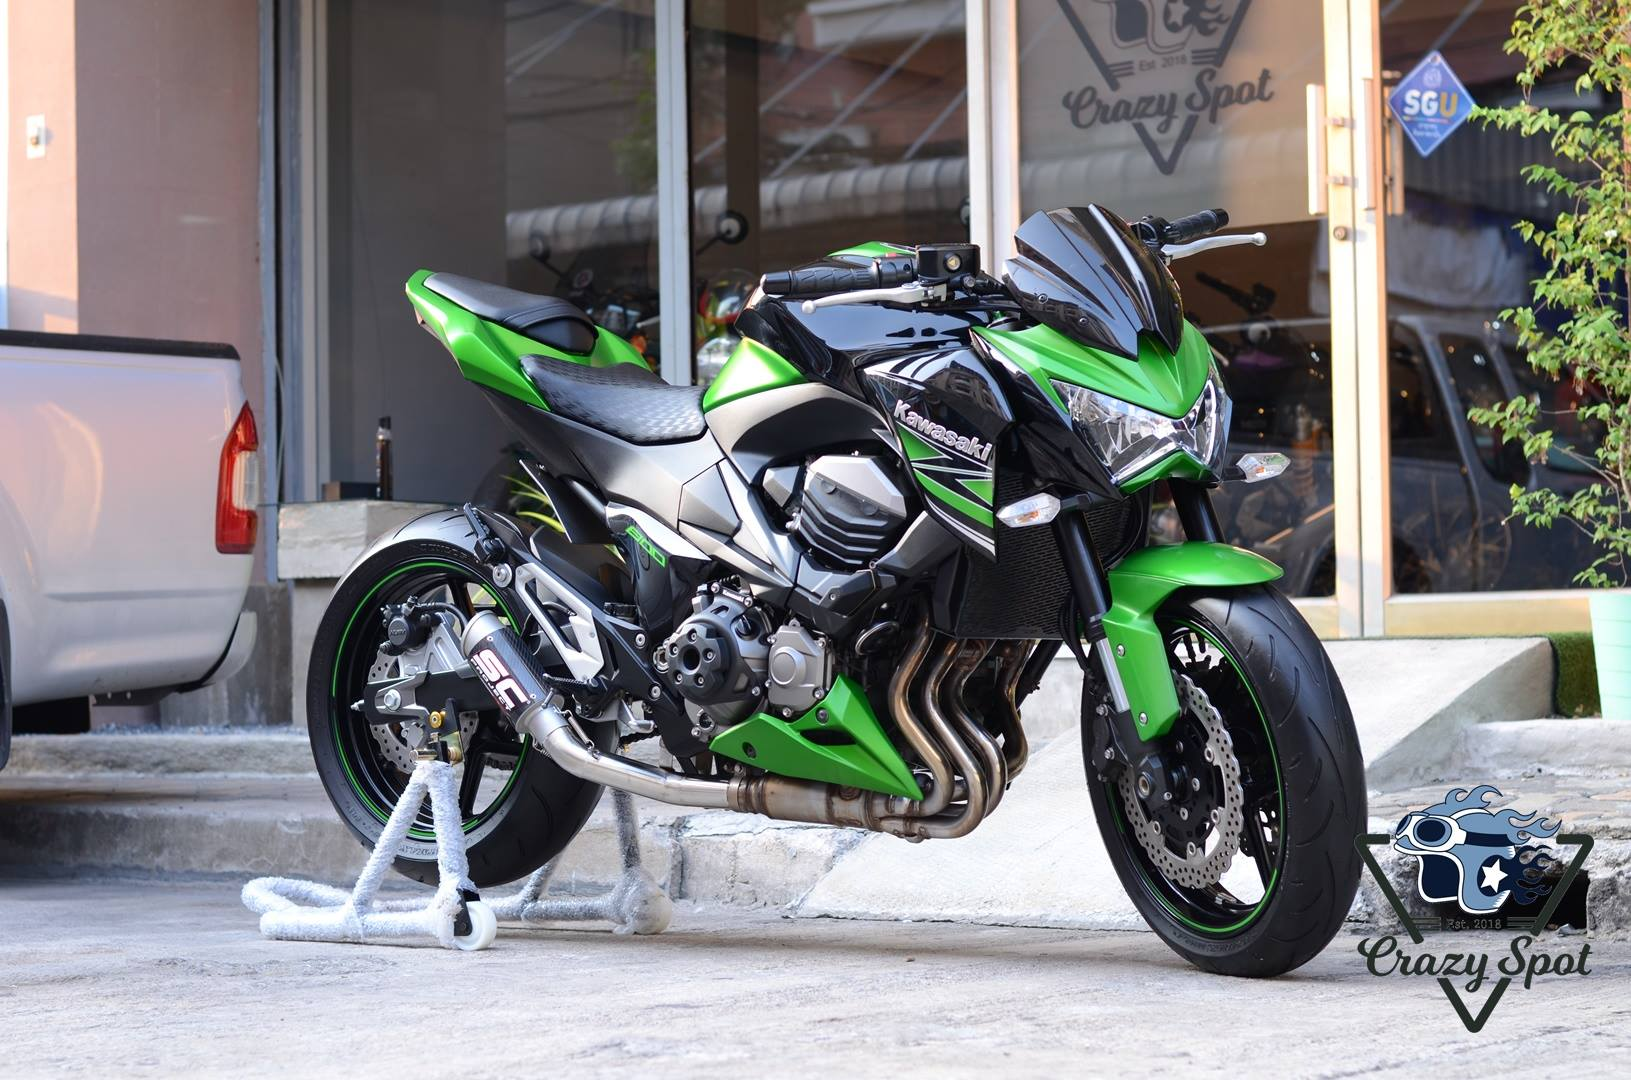motorcycle: (305, 236, 1365, 978)
